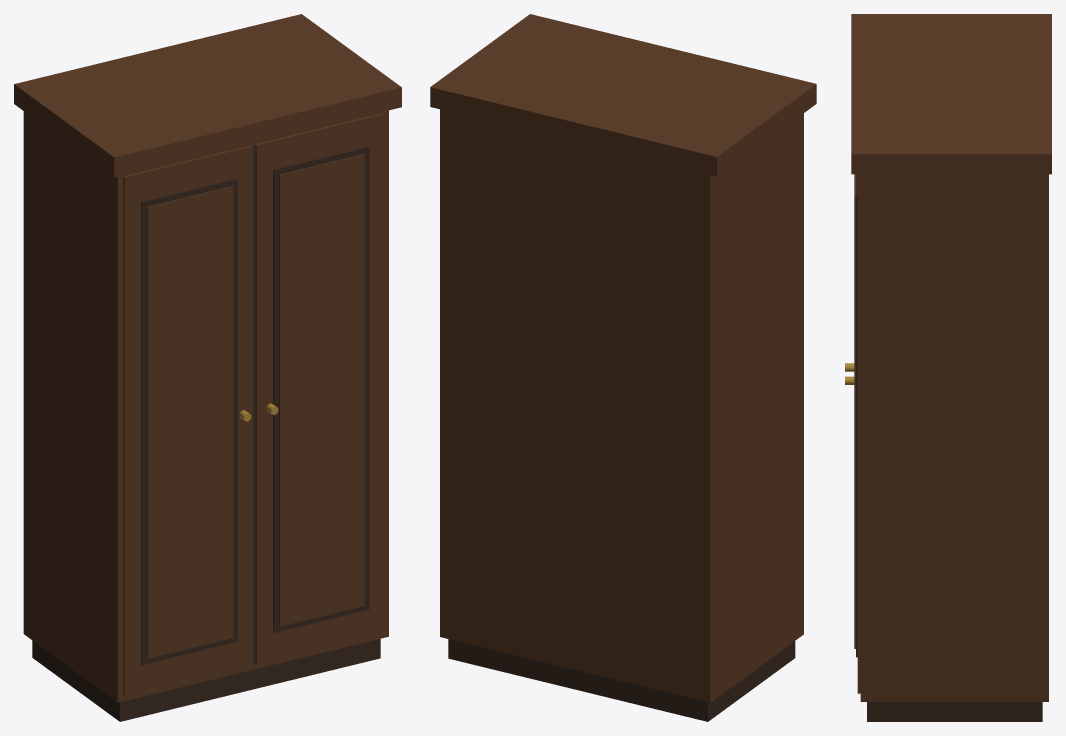
File: wardrobe.glb
3 views of the same model, side by side, from view 1: azimuth 30°, elevation 25°; view 2: azimuth 150°, elevation 25°; view 3: azimuth 270°, elevation 25° (orthographic).
Parts seen in each view (by area): view 1: wardrobe; view 2: wardrobe; view 3: wardrobe.
Part boxes in pixels (<box>): wardrobe: <box>14,14,401,721</box>; wardrobe: <box>430,14,816,721</box>; wardrobe: <box>845,14,1051,721</box>.
Bounding box in the file's own units: 1.06 × 2.02 × 0.66.
1 material, 1 textured.
